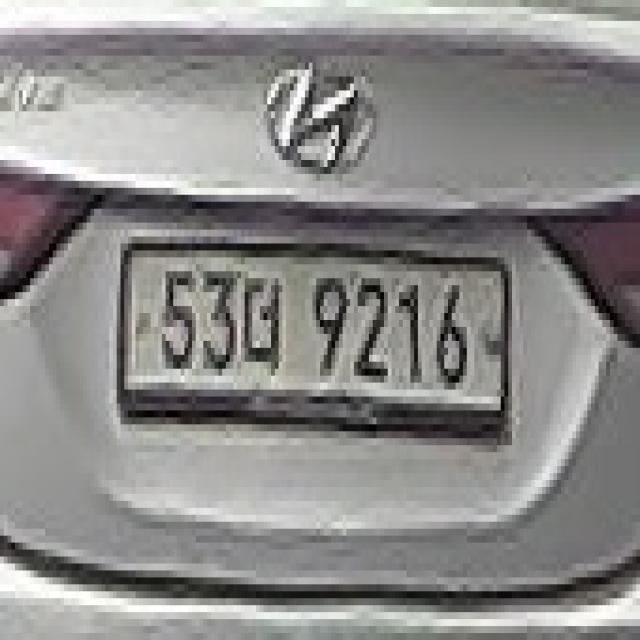1: (392, 271, 429, 383)
2: (354, 264, 391, 390)
3: (196, 257, 237, 376)
5: (154, 257, 200, 369)
6: (430, 278, 474, 390)
9: (309, 264, 346, 383)
deo: (237, 257, 290, 376)
license_plate: (117, 230, 516, 445)
